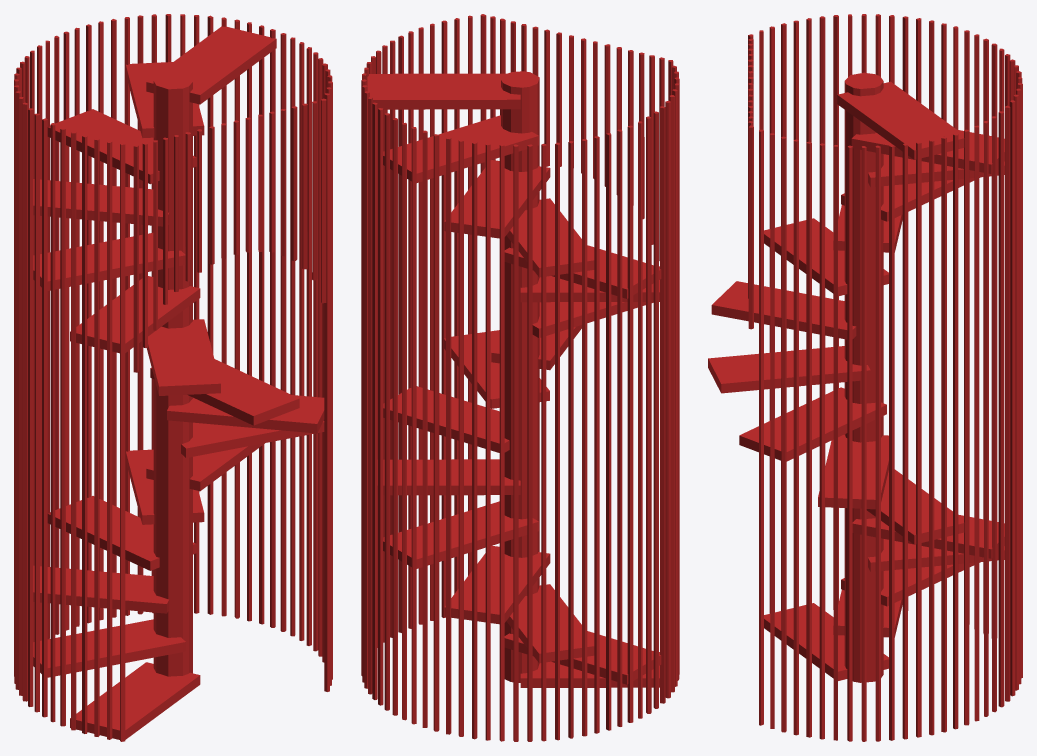
File: stair_afterarray.fbx
3 renders of one model, left to right at view 1: azimuth 30°, elevation 25°; view 2: azimuth 150°, elevation 25°; view 3: azimuth 270°, elevation 25°, orthographic.
Visible parts, largest first — view 1: Cylinder; view 2: Cylinder; view 3: Cylinder.
Boxes of the visible parts, x1,y1,x2,y2 form: Cylinder: (14, 14, 332, 741); Cylinder: (361, 14, 679, 741); Cylinder: (708, 14, 1022, 741).
Size of the model in its own units: 861 by 1777 by 854.
